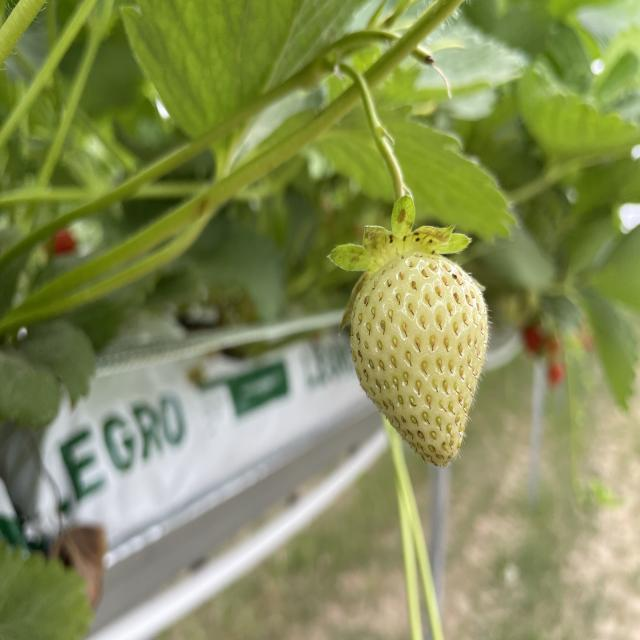stem: (329, 66, 470, 272)
strawberryNR: (350, 252, 488, 466)
